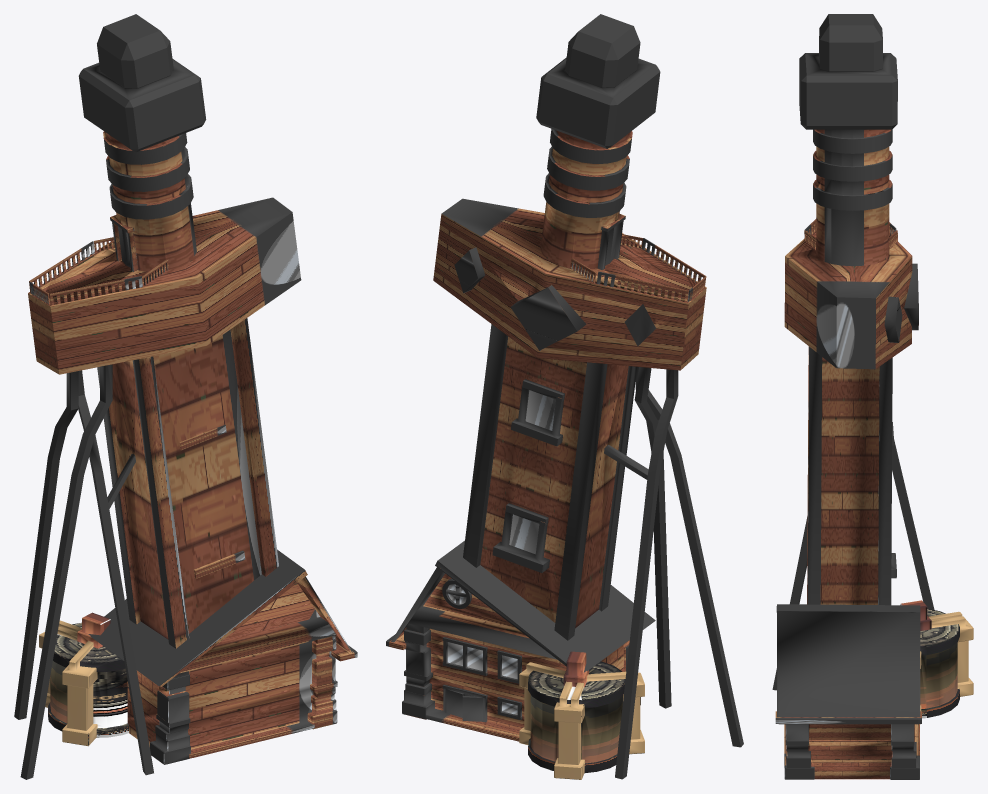
File: Sword_Building_B.fbx
3 renders of one model, left to right at view 1: azimuth 30°, elevation 25°; view 2: azimuth 150°, elevation 25°; view 3: azimuth 270°, elevation 25°, orthographic. The views are drawn at different scales.
Visible parts, largest first — view 1: Sword, House Body, Oil Bottle; view 2: Sword, House Body, Oil Bottle; view 3: Sword, House Body, Oil Bottle.
Boxes of the visible parts, x1,y1,x2,y2 form: Sword: (14, 14, 301, 779); House Body: (88, 549, 357, 764); Oil Bottle: (39, 612, 128, 746); Sword: (433, 14, 743, 779); House Body: (386, 540, 655, 741); Oil Bottle: (519, 651, 644, 779); Sword: (772, 14, 934, 690); House Body: (775, 604, 921, 779); Oil Bottle: (900, 600, 973, 724).
Size of the model in its own units: 146 by 320 by 85.35.
